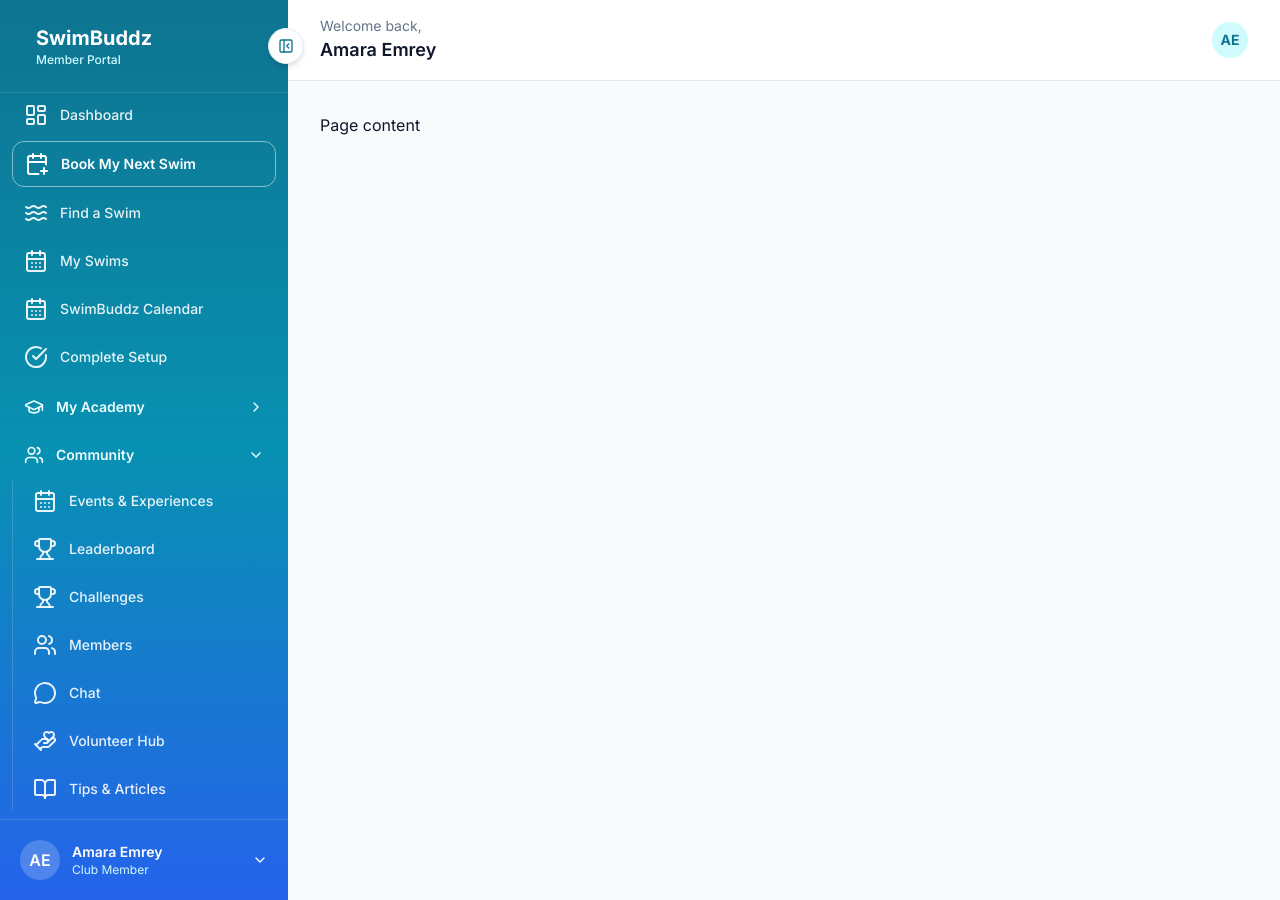
Test: MemberLayout desktop navigation › collapses the member sidebar and remembers the preference
This screenshot has width=1280, height=900.
Click the button named "Collapse member navigation": coordinates (286, 46) [268,28,304,64]
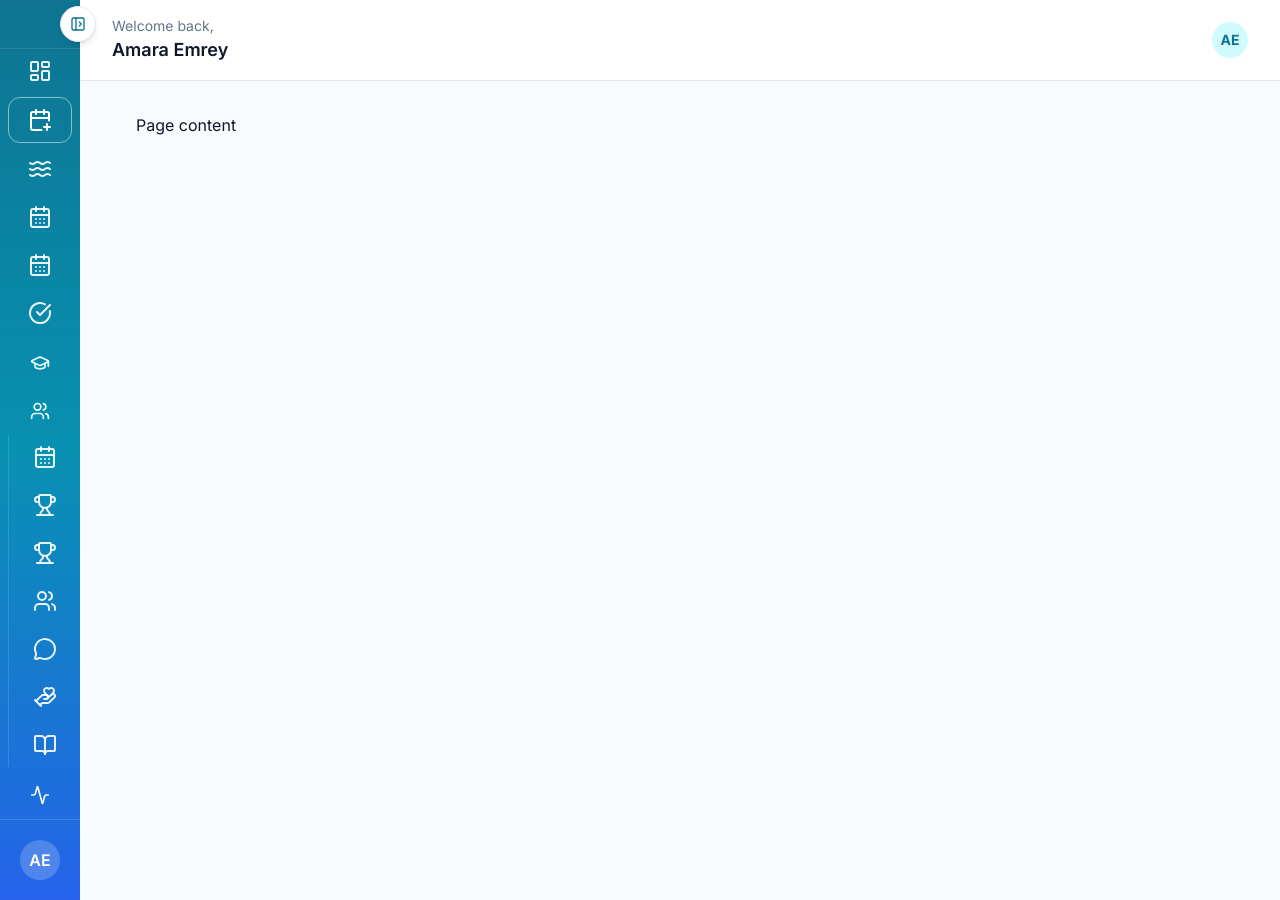
Result: the button named "Expand member navigation" is shown at [60,6,96,42]
